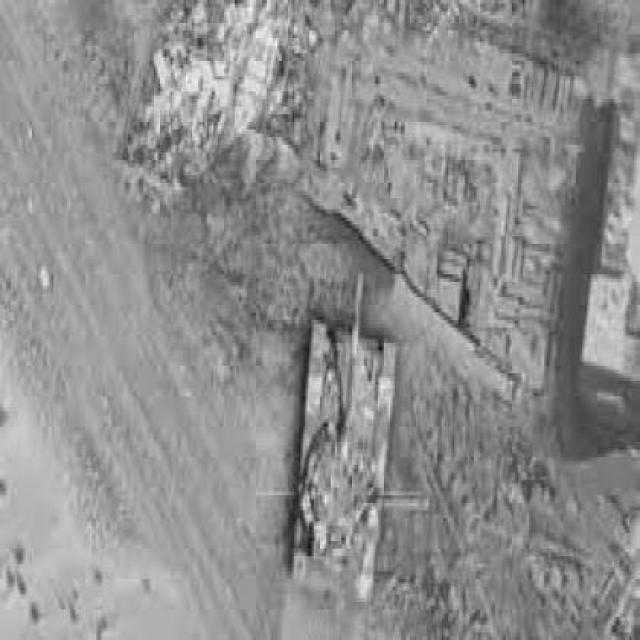tank: (283, 265, 404, 613)
